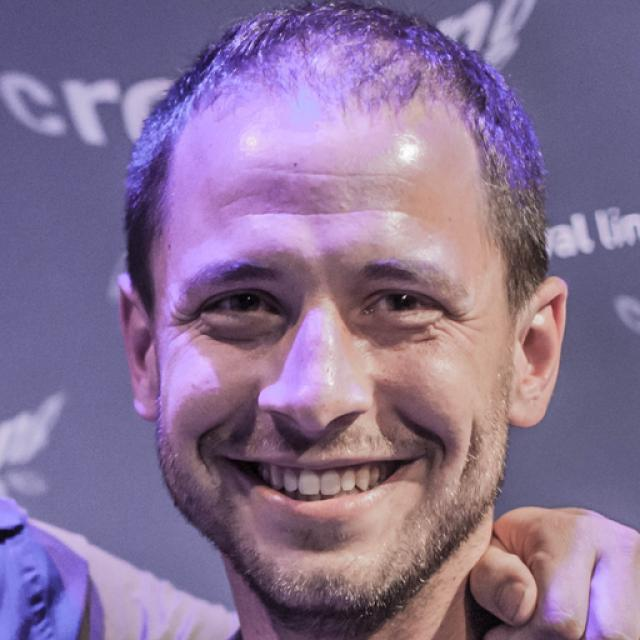happy: (151, 107, 514, 622)
